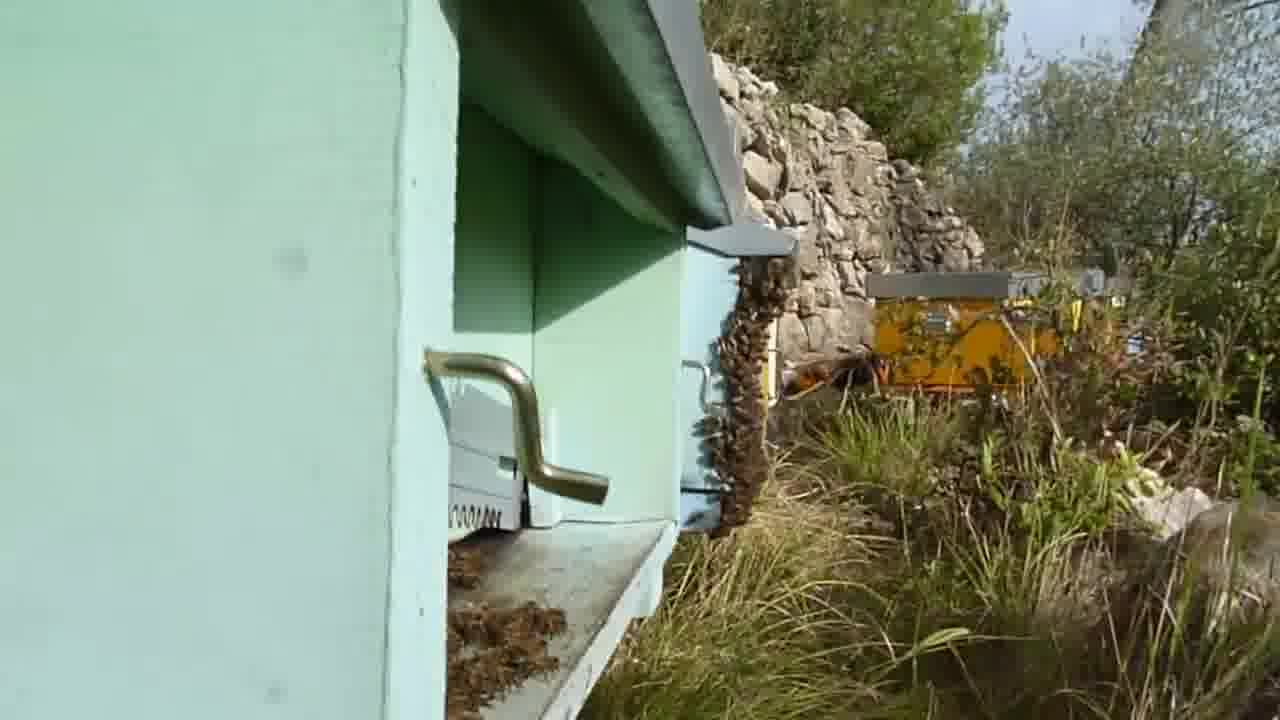bee: (445, 597, 570, 708), (701, 422, 773, 525), (733, 258, 804, 337), (712, 335, 770, 431), (441, 541, 490, 587)
hornet: (798, 342, 903, 404)
